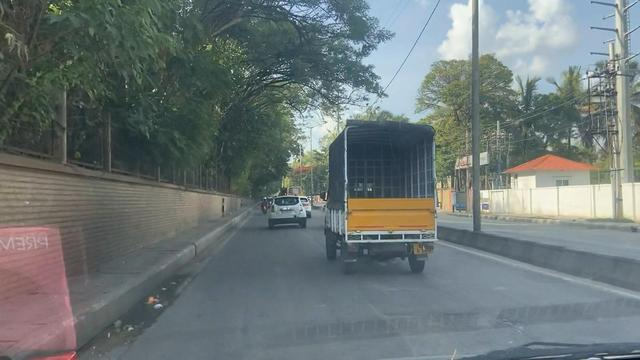HMV: (324, 122, 439, 281)
LMV: (268, 193, 306, 233)
RoadDamages: (375, 293, 535, 348)
